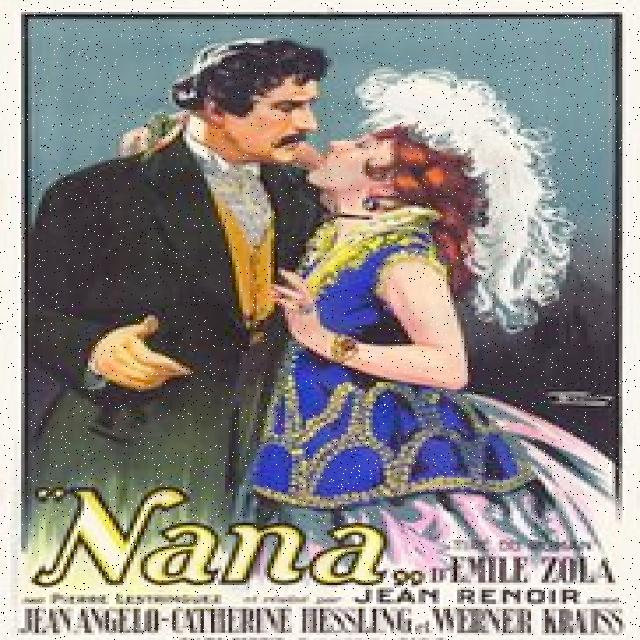movie-judul: (21, 477, 622, 640)
picture: (24, 18, 629, 554)
